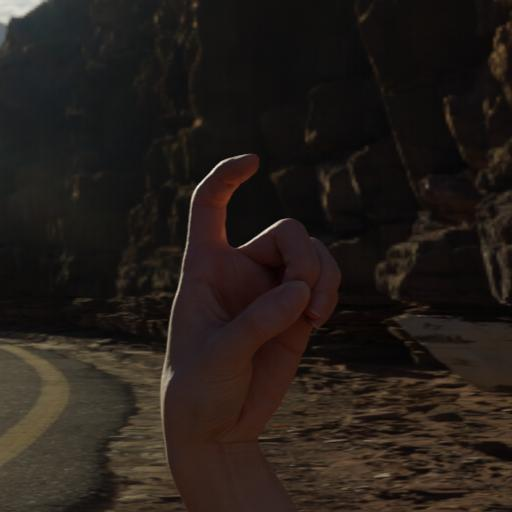X: (140, 121, 381, 512)
